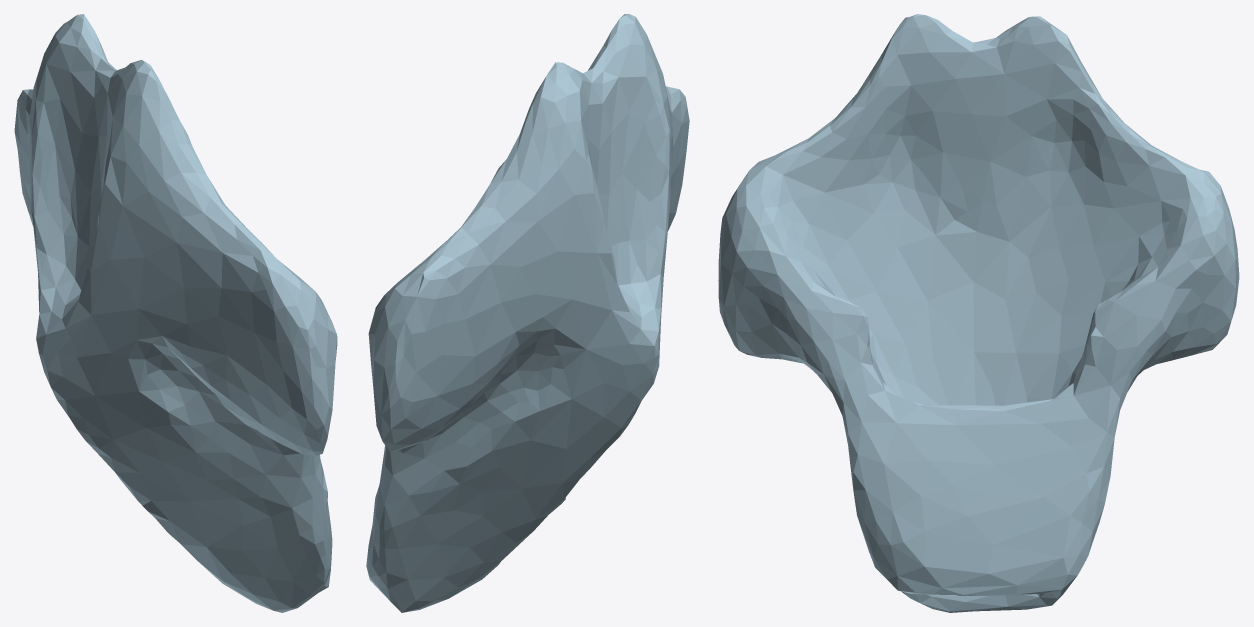
3 renders of one model, left to right at view 1: azimuth 30°, elevation 25°; view 2: azimuth 150°, elevation 25°; view 3: azimuth 270°, elevation 25°, orthographic. The views are drawn at different scales.
Visible parts, largest first — view 1: 310.obj; view 2: 310.obj; view 3: 310.obj.
Part boxes in pixels (x1,y1,x2,y2): 310.obj: (14, 14, 337, 612); 310.obj: (366, 14, 689, 612); 310.obj: (718, 14, 1239, 612).
Bounding box in the file's own units: 961 × 2141 × 1892.
